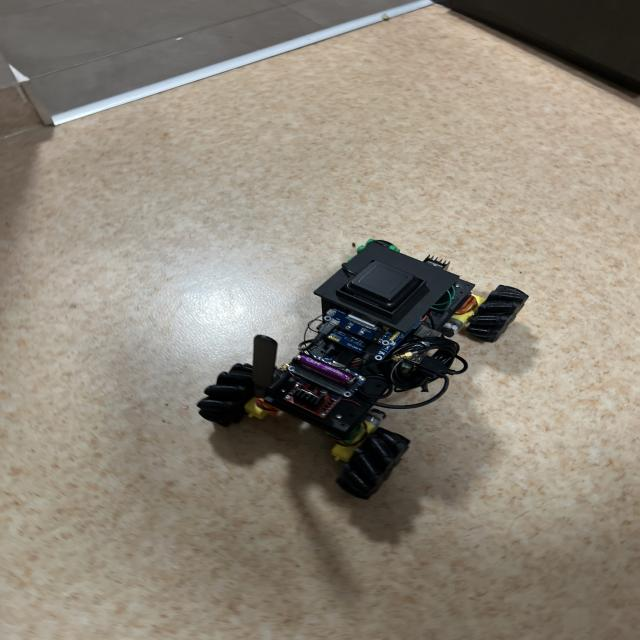robot: (197, 240, 528, 499)
